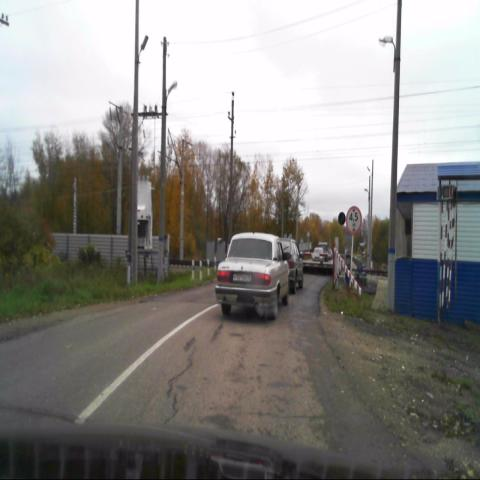3_13: (346, 206, 362, 235)
